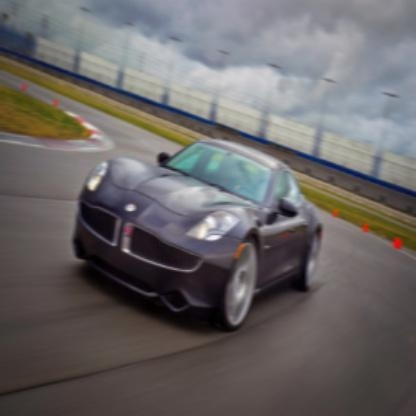Vehicle: (72, 138, 322, 329)
